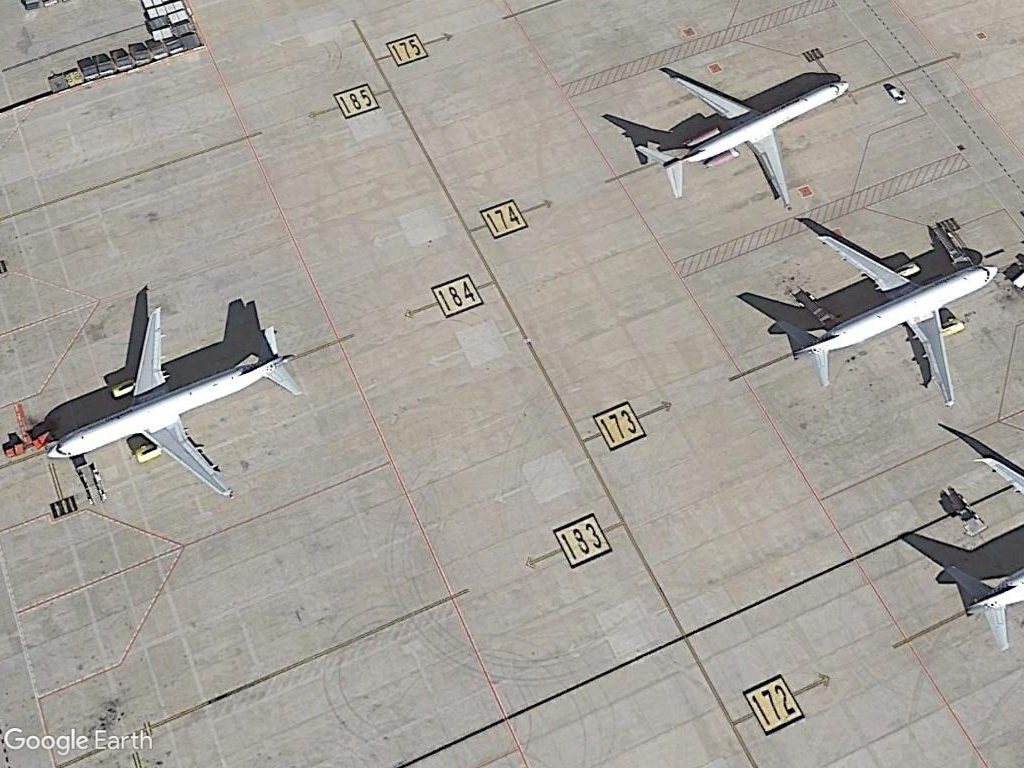airliner: (43, 304, 307, 504), (784, 231, 1002, 415), (630, 62, 857, 212)
